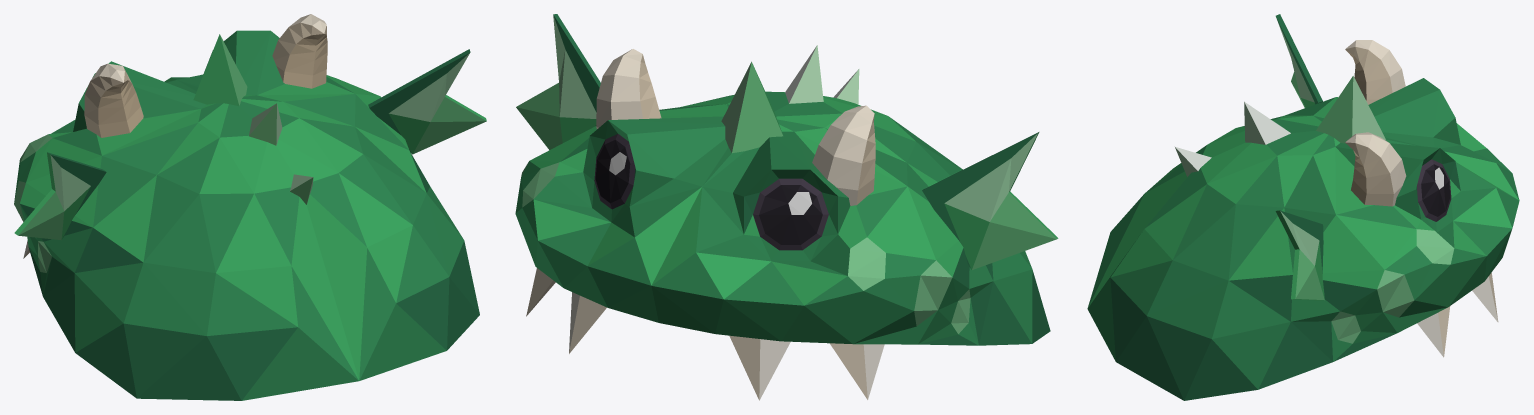
Rendered from Cosmetic_Dragon_Hat_Green.glb.
3 renders of one model, left to right at view 1: azimuth 30°, elevation 25°; view 2: azimuth 150°, elevation 25°; view 3: azimuth 270°, elevation 25°, orthographic. The views are drawn at different scales.
Parts seen in each view (by area): view 1: Cosmetic_Dragon_Hat_Green; view 2: Cosmetic_Dragon_Hat_Green; view 3: Cosmetic_Dragon_Hat_Green.
Boxes of the visible parts, x1,y1,x2,y2 form: Cosmetic_Dragon_Hat_Green: (14,14,486,400); Cosmetic_Dragon_Hat_Green: (515,14,1058,400); Cosmetic_Dragon_Hat_Green: (1087,14,1519,400).
Bounding box in the file's own units: 1.46 × 0.7666 × 1.22.
